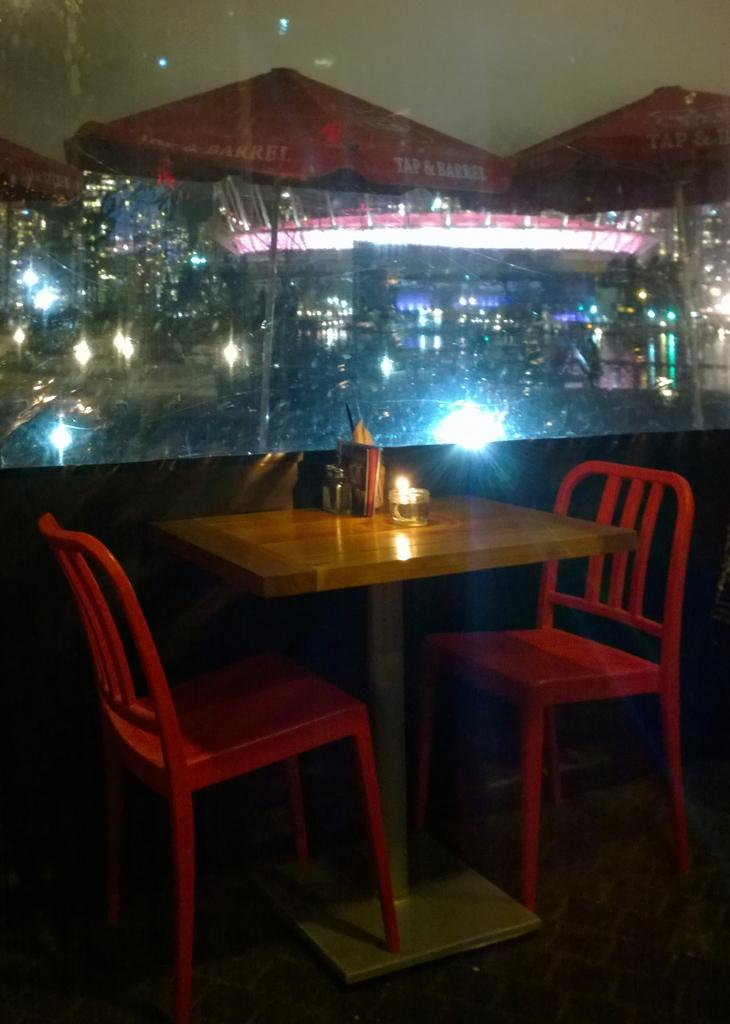Chair: (19, 467, 458, 1010), (424, 449, 694, 940)
